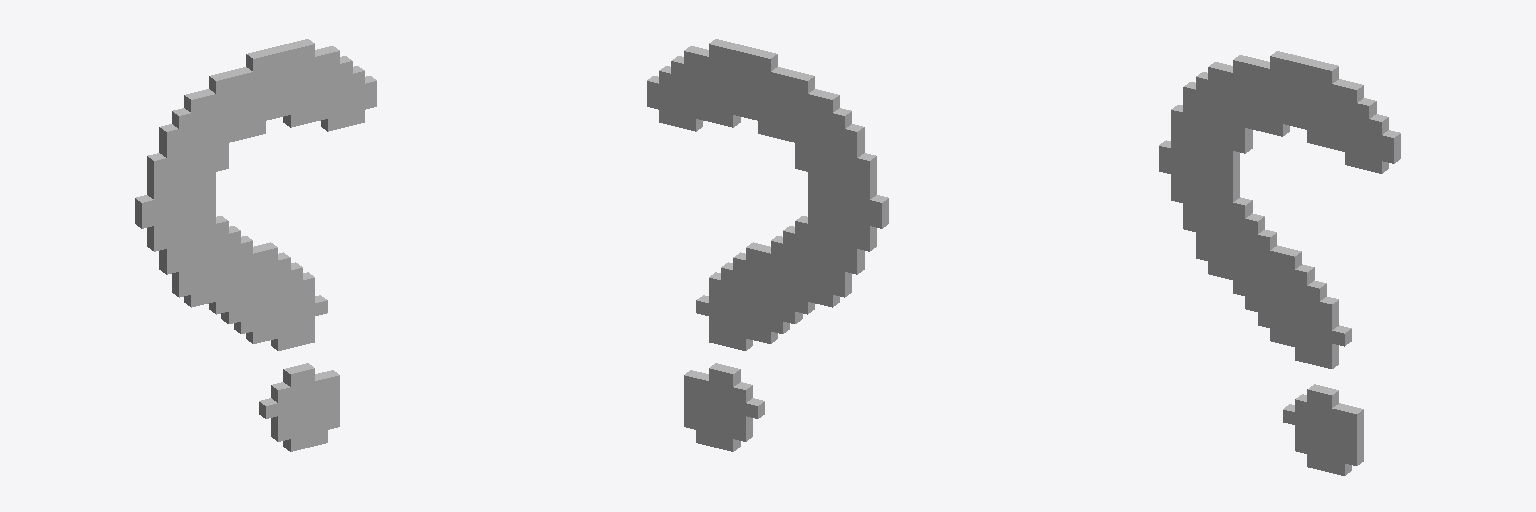
The model's file is powerup-2.obj.
3 views of the same model, side by side, from view 1: azimuth 30°, elevation 25°; view 2: azimuth 150°, elevation 25°; view 3: azimuth 330°, elevation 25° (orthographic).
Visible parts, largest first — view 1: Text; view 2: Text; view 3: Text.
Boxes of the visible parts, x1,y1,x2,y2 form: Text: [135, 39, 376, 451]; Text: [647, 39, 888, 451]; Text: [1159, 51, 1400, 475].
Bounding box in the file's own units: 0.6123 × 0.999 × 0.0322.